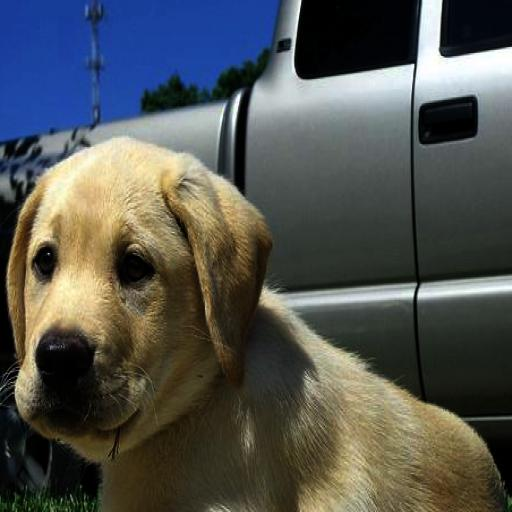dog_face: (0, 138, 249, 439)
